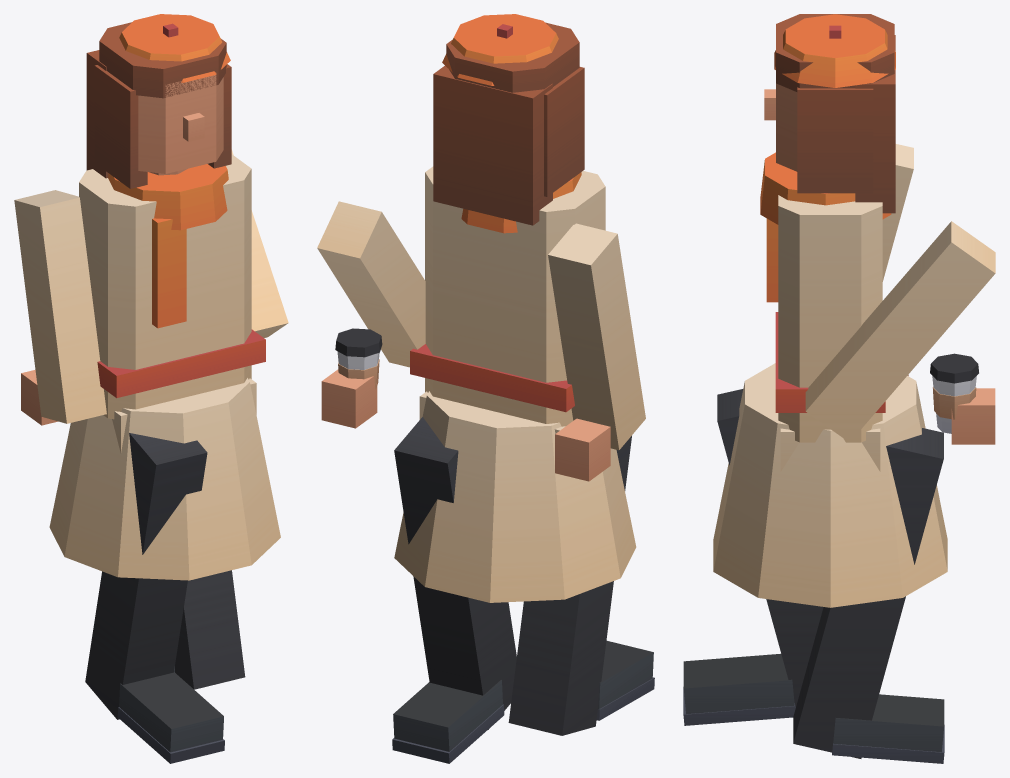
File: citizen_coffee_f.glb
3 views of the same model, side by side, from view 1: azimuth 30°, elevation 25°; view 2: azimuth 150°, elevation 25°; view 3: azimuth 270°, elevation 25° (orthographic). The views are drawn at different scales.
Visible parts, largest first — view 1: citizen_coffee_f; view 2: citizen_coffee_f; view 3: citizen_coffee_f.
Boxes of the visible parts, x1,y1,x2,y2 form: citizen_coffee_f: (14, 14, 288, 763); citizen_coffee_f: (317, 14, 654, 763); citizen_coffee_f: (683, 14, 995, 763).
Size of the model in its own units: 0.576 by 1.65 by 0.6586.
1 material, 1 textured.
